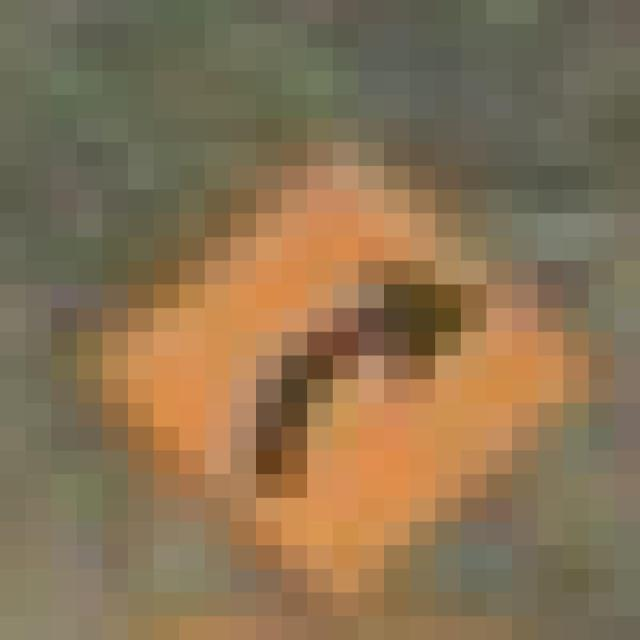Tikungan Ke Kanan: (26, 71, 614, 616)
